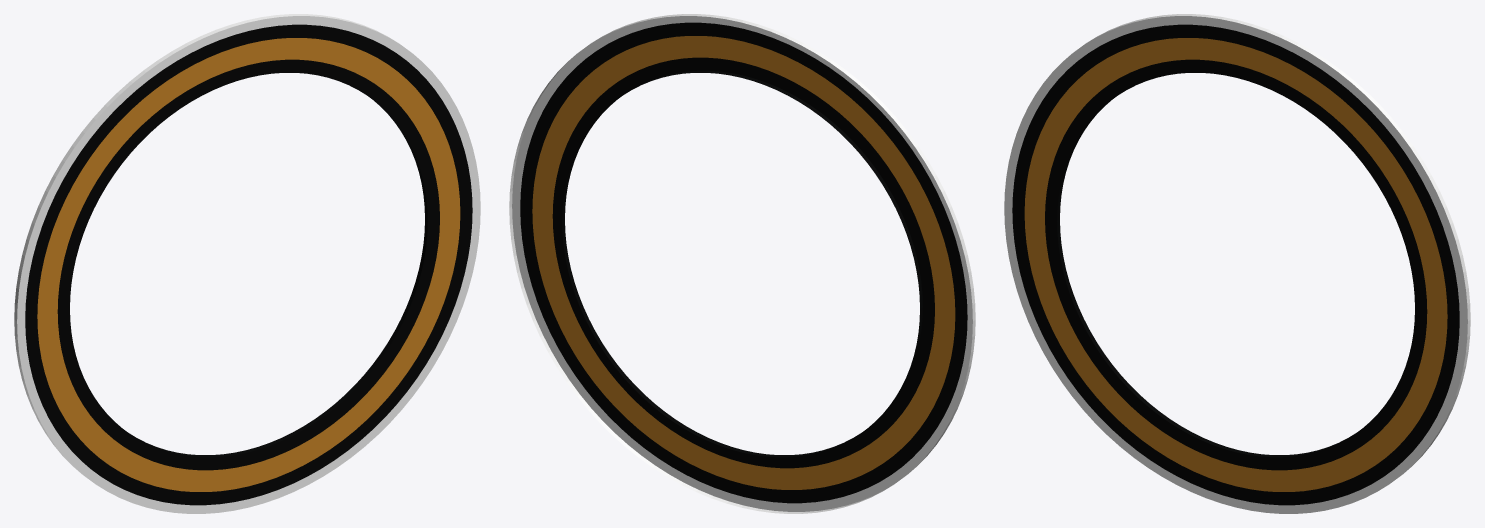
File: SM_Marker_TeamRing_P1.obj
3 renders of one model, left to right at view 1: azimuth 30°, elevation 25°; view 2: azimuth 150°, elevation 25°; view 3: azimuth 330°, elevation 25°, orthographic.
Parts seen in each view (by area): view 1: SM_Marker_TeamRing_P1; view 2: SM_Marker_TeamRing_P1; view 3: SM_Marker_TeamRing_P1.
Boxes of the visible parts, x1,y1,x2,y2 form: SM_Marker_TeamRing_P1: (14, 14, 480, 513); SM_Marker_TeamRing_P1: (509, 14, 975, 513); SM_Marker_TeamRing_P1: (1004, 14, 1470, 513).
Bounding box in the file's own units: 57 × 57 × 0.6.
